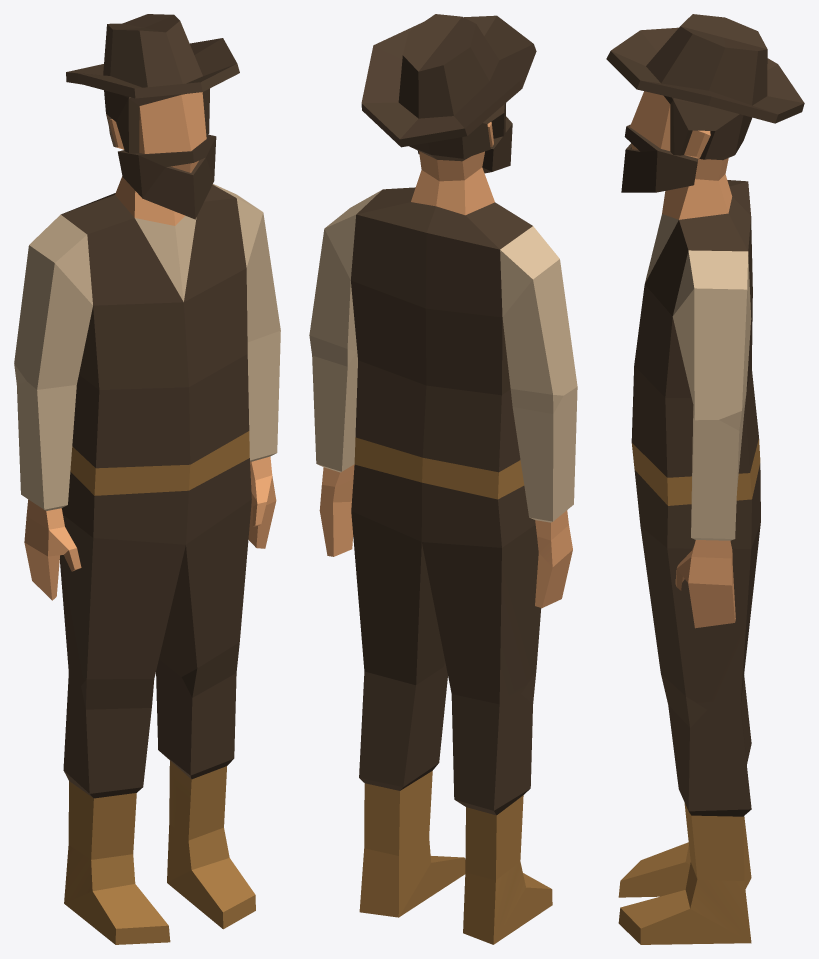
Rendered from people_man-cowboy.fbx.
The picture shows the model from 3 angles, left to right: view 1: azimuth 30°, elevation 25°; view 2: azimuth 150°, elevation 25°; view 3: azimuth 270°, elevation 25°; orthographic projection.
Visible parts, largest first — view 1: people_man_cowboy; view 2: people_man_cowboy; view 3: people_man_cowboy.
Part boxes in pixels (x1,y1,x2,y2): people_man_cowboy: [14, 14, 280, 944]; people_man_cowboy: [309, 14, 577, 944]; people_man_cowboy: [606, 14, 804, 944].
Size of the model in its own units: 57.73 by 200 by 40.53.
